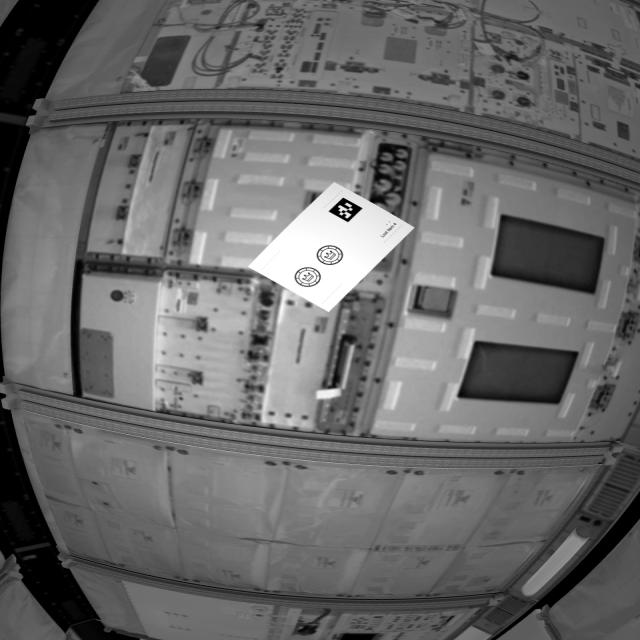coin: (316, 245, 349, 270), (292, 266, 326, 290)
